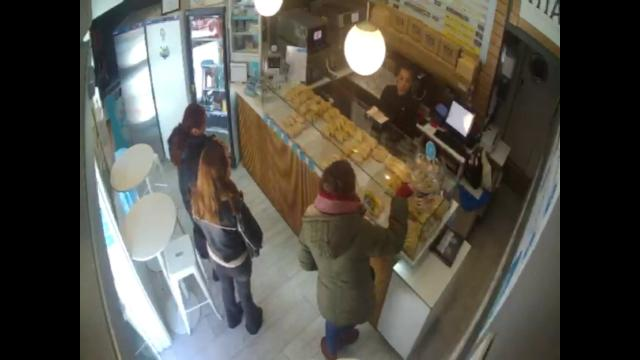cliente: (298, 160, 412, 360), (188, 137, 263, 334), (168, 102, 224, 219)
empleado: (376, 66, 419, 137)
